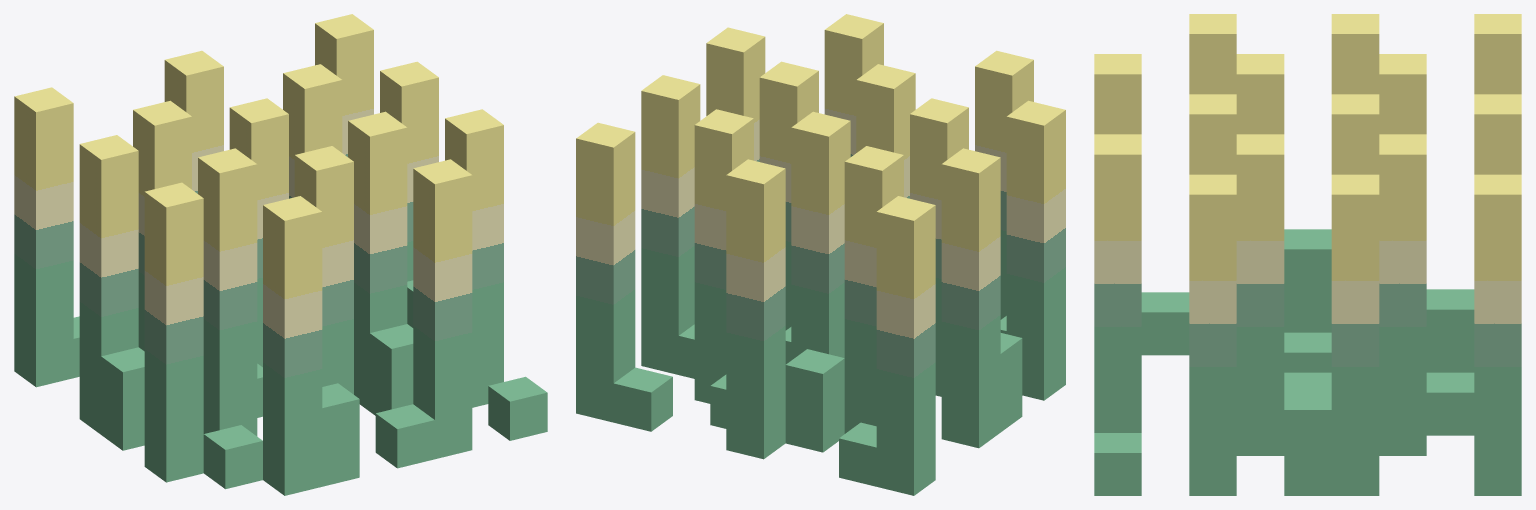
The model's file is Hierba.obj.
3 renders of one model, left to right at view 1: azimuth 30°, elevation 25°; view 2: azimuth 150°, elevation 25°; view 3: azimuth 270°, elevation 25°, orthographic. The views are drawn at different scales.
Visible parts, largest first — view 1: Model; view 2: Model; view 3: Model.
Part boxes in pixels (bbox=[...]): Model: bbox=[14, 14, 547, 495]; Model: bbox=[576, 14, 1065, 495]; Model: bbox=[1094, 14, 1521, 495].
Size of the model in its own units: 32 by 24.89 by 32.
